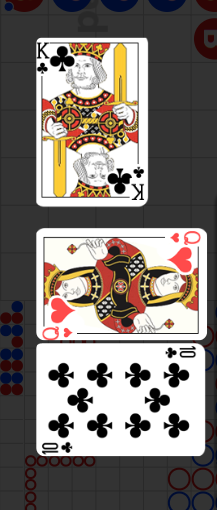10C: (163, 346, 197, 361)
KC: (127, 162, 146, 202), (36, 42, 51, 78)
